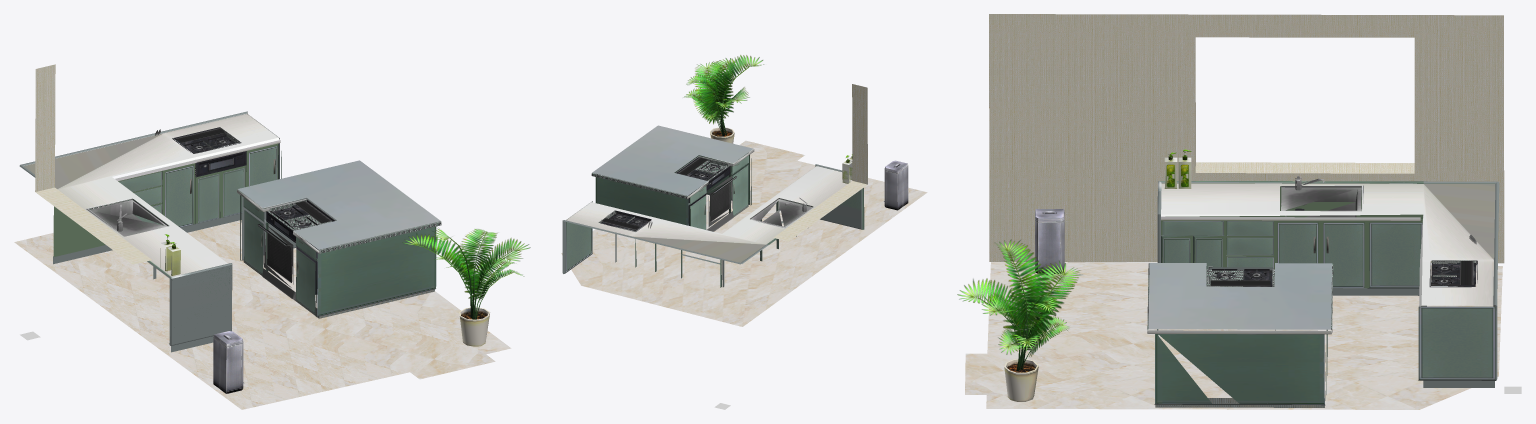
The model's file is kitchen.glb.
3 views of the same model, side by side, from view 1: azimuth 30°, elevation 25°; view 2: azimuth 150°, elevation 25°; view 3: azimuth 270°, elevation 25° (orthographic). The views are drawn at different scales.
Parts seen in each view (by area): view 1: FrontSide_7, FrontSide_22, FrontSide_17, BackSide_2, FrontSide_18, FrontSide_69, FrontSide_19, FrontSide_10, FrontSide_55, FrontSide_30; view 2: FrontSide_7, FrontSide_22, FrontSide_17, FrontSide_18, FrontSide_69, BackSide_2, FrontSide_10, FrontSide_55, FrontSide_19; view 3: FrontSide_18, FrontSide_17, FrontSide_7, FrontSide_22, FrontSide_69, FrontSide_19, FrontSide_10, FrontSide_55, BackSide_2, FrontSide_30.
Part boxes in pixels (x1,y1,x2,y2): FrontSide_7: (14, 220, 511, 409); FrontSide_22: (237, 160, 441, 316); FrontSide_17: (24, 113, 281, 335); BackSide_2: (147, 112, 435, 345); FrontSide_18: (35, 64, 151, 264); FrontSide_69: (402, 228, 530, 301); FrontSide_19: (19, 111, 434, 352); FrontSide_10: (213, 331, 244, 393); FrontSide_55: (421, 232, 513, 346); FrontSide_30: (160, 234, 180, 275); FrontSide_7: (561, 140, 927, 326); FrontSide_22: (591, 125, 754, 231); FrontSide_17: (565, 165, 864, 287); FrontSide_18: (773, 84, 867, 241); FrontSide_69: (684, 55, 763, 124); BackSide_2: (562, 164, 862, 287); FrontSide_10: (884, 160, 908, 210); FrontSide_55: (693, 65, 749, 143); FrontSide_19: (563, 205, 768, 286); FrontSide_18: (989, 14, 1504, 263); FrontSide_17: (1160, 176, 1495, 379); FrontSide_7: (965, 262, 1502, 409); FrontSide_22: (1147, 263, 1333, 404); FrontSide_69: (957, 239, 1082, 356); FrontSide_19: (1155, 181, 1499, 407); FrontSide_10: (1035, 209, 1064, 274); FrontSide_55: (978, 253, 1061, 401); BackSide_2: (1154, 181, 1497, 405); FrontSide_30: (1164, 149, 1191, 188).
Size of the model in its own units: 46.37 by 46.58 by 65.4.
11 materials, 11 textured.
